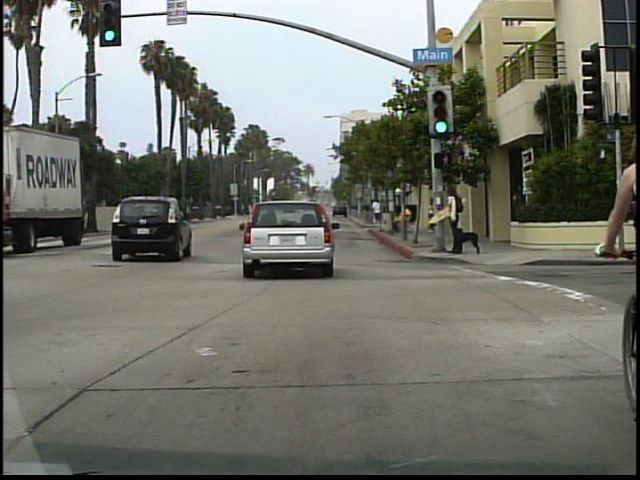person: (445, 184, 467, 252), (373, 196, 385, 229)
